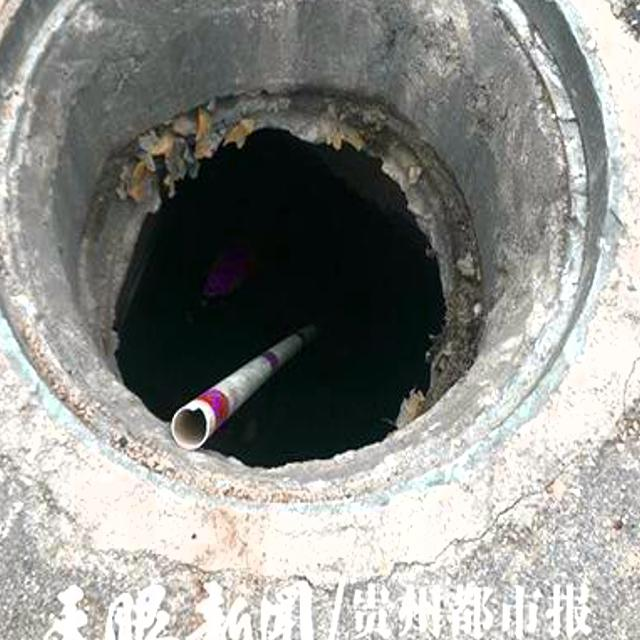lose: (0, 0, 640, 538)
